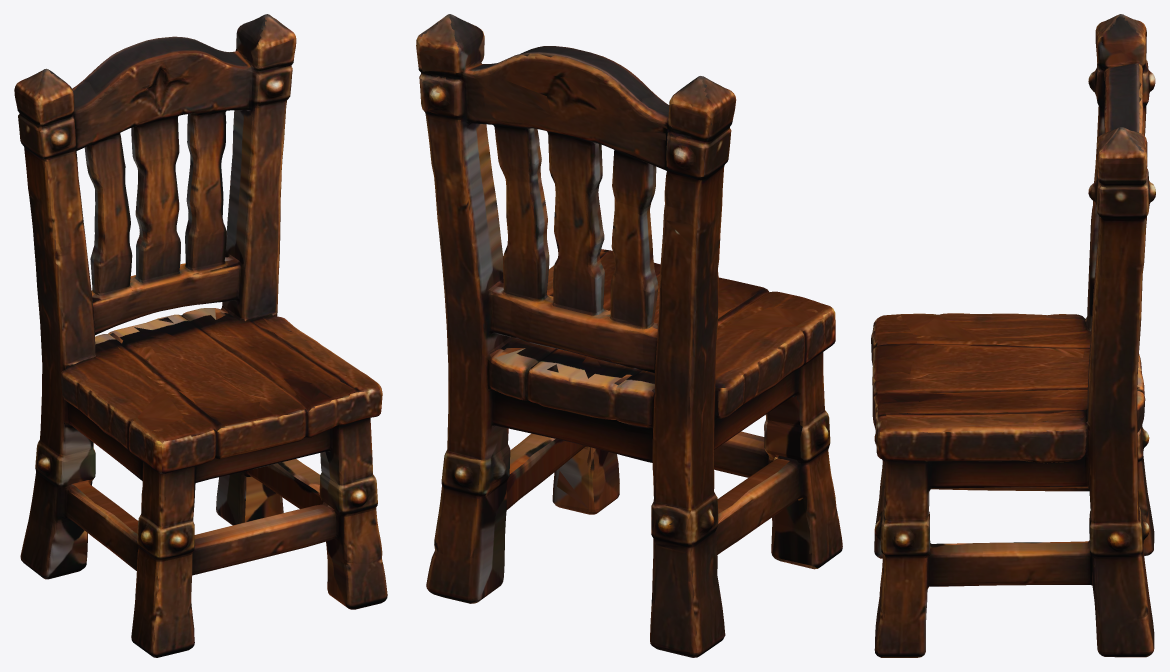
File: chair-prototype-trial.glb
3 renders of one model, left to right at view 1: azimuth 30°, elevation 25°; view 2: azimuth 150°, elevation 25°; view 3: azimuth 270°, elevation 25°, orthographic. The views are drawn at different scales.
Visible parts, largest first — view 1: geometry_0; view 2: geometry_0; view 3: geometry_0.
Boxes of the visible parts, x1,y1,x2,y2 form: geometry_0: (14, 14, 387, 657); geometry_0: (416, 14, 842, 657); geometry_0: (871, 14, 1155, 657).
Bounding box in the file's own units: 0.6541 × 1.2 × 0.5836.
1 material, 1 textured.
